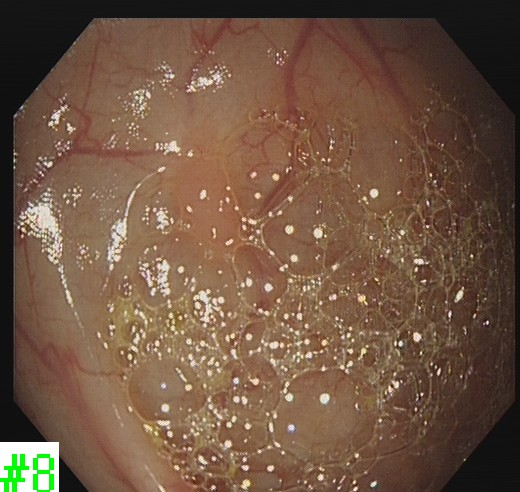others: (169, 155, 244, 247)
